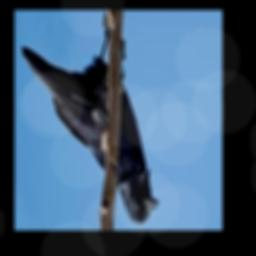Crow: (20, 35, 158, 226)
